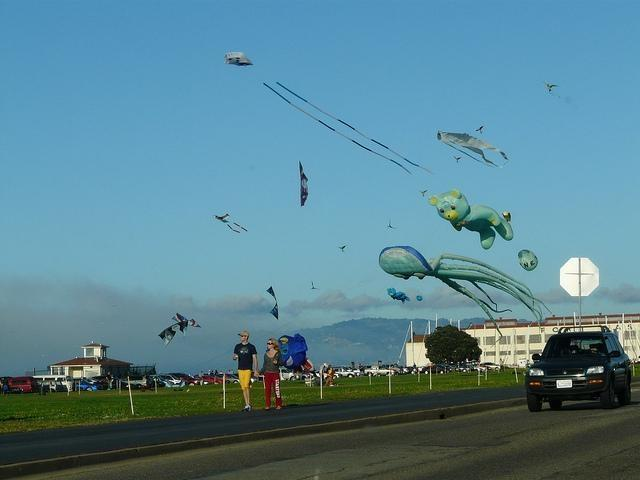car: (528, 324, 635, 411), (8, 376, 38, 394), (169, 372, 200, 386), (0, 376, 21, 394), (160, 373, 182, 386), (332, 367, 356, 378), (422, 366, 452, 374), (215, 374, 239, 384), (130, 376, 149, 388), (150, 375, 170, 386), (111, 378, 129, 390), (480, 362, 501, 371), (203, 376, 222, 384)
